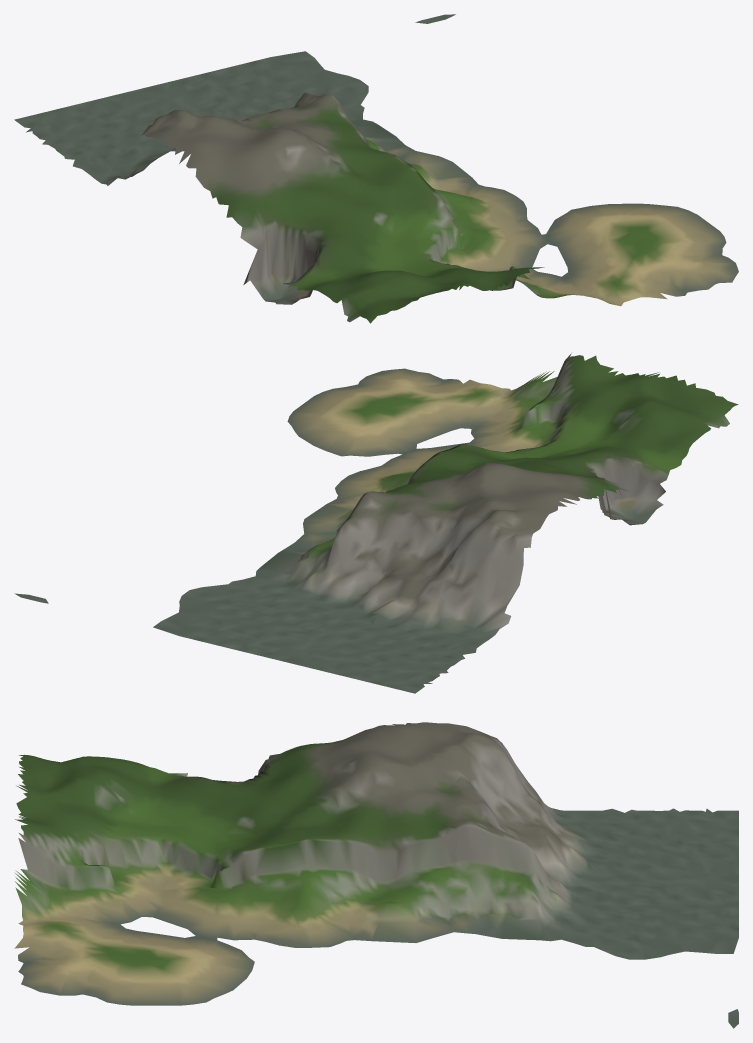
The model's file is coast_tile_x1z0_lod1.glb.
3 views of the same model, one above another, from view 1: azimuth 30°, elevation 25°; view 2: azimuth 150°, elevation 25°; view 3: azimuth 270°, elevation 25° (orthographic). The views are drawn at different scales.
Parts seen in each view (by area): view 1: coast_tile_x1z0_lod1; view 2: coast_tile_x1z0_lod1; view 3: coast_tile_x1z0_lod1.
Part boxes in pixels (box(x1,y1,x2,y2)): coast_tile_x1z0_lod1: box(14, 14, 738, 323); coast_tile_x1z0_lod1: box(14, 353, 738, 693); coast_tile_x1z0_lod1: box(14, 722, 738, 1028).
Size of the model in its own units: 588 by 119 by 809.
